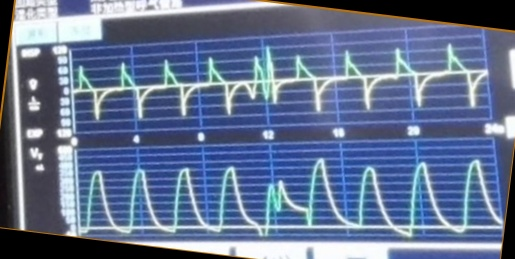Double_Triggering Flow: (84, 44, 475, 122)
Double_Triggering Volume: (91, 158, 484, 237)
